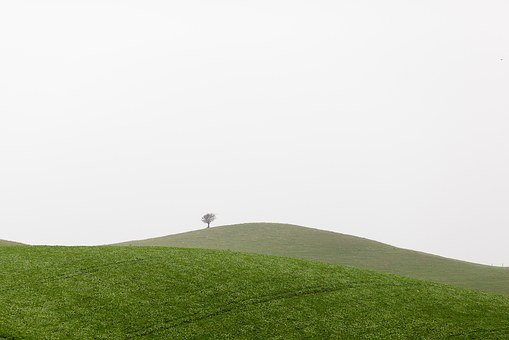field: (3, 235, 509, 334)
sky: (1, 2, 506, 233)
tree: (195, 209, 225, 233)
